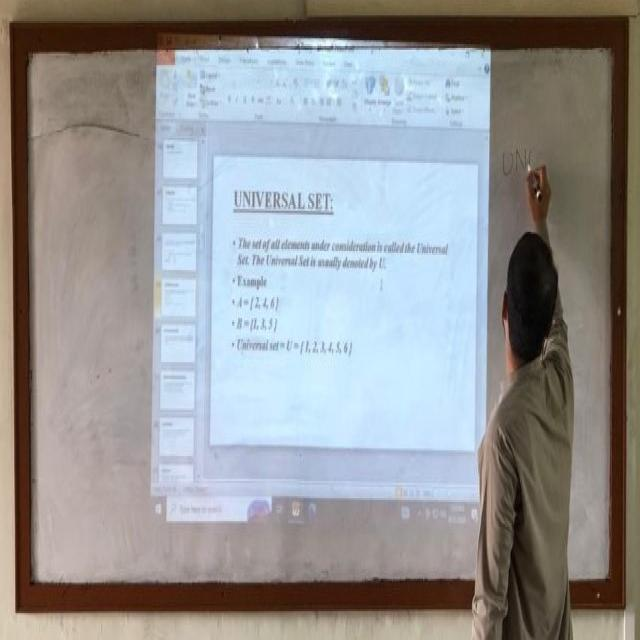Instructor: (482, 125, 572, 640)
Slide: (146, 37, 492, 536)
White-board: (21, 29, 624, 600)
